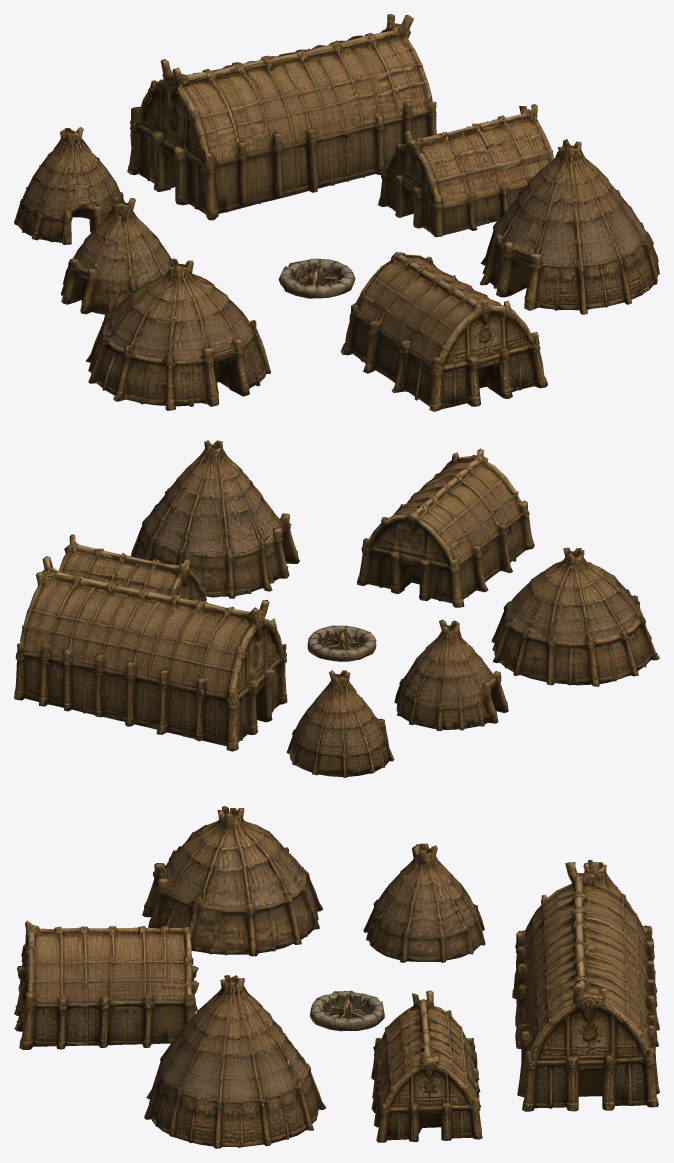
File: Ancient Village (North American Native).fbx
3 renders of one model, top to bottom at view 1: azimuth 30°, elevation 25°; view 2: azimuth 150°, elevation 25°; view 3: azimuth 270°, elevation 25°, orthographic. The views are drawn at different scales.
Parts seen in each view (by area): view 1: tripo_node_9eb622d6; view 2: tripo_node_9eb622d6; view 3: tripo_node_9eb622d6.
Boxes of the visible parts, box(x1,y1,x2,y2) form: tripo_node_9eb622d6: box(14, 14, 659, 411); tripo_node_9eb622d6: box(14, 440, 659, 777); tripo_node_9eb622d6: box(14, 806, 659, 1148).
Bounding box in the file's own units: 0.9887 × 0.2419 × 1.
